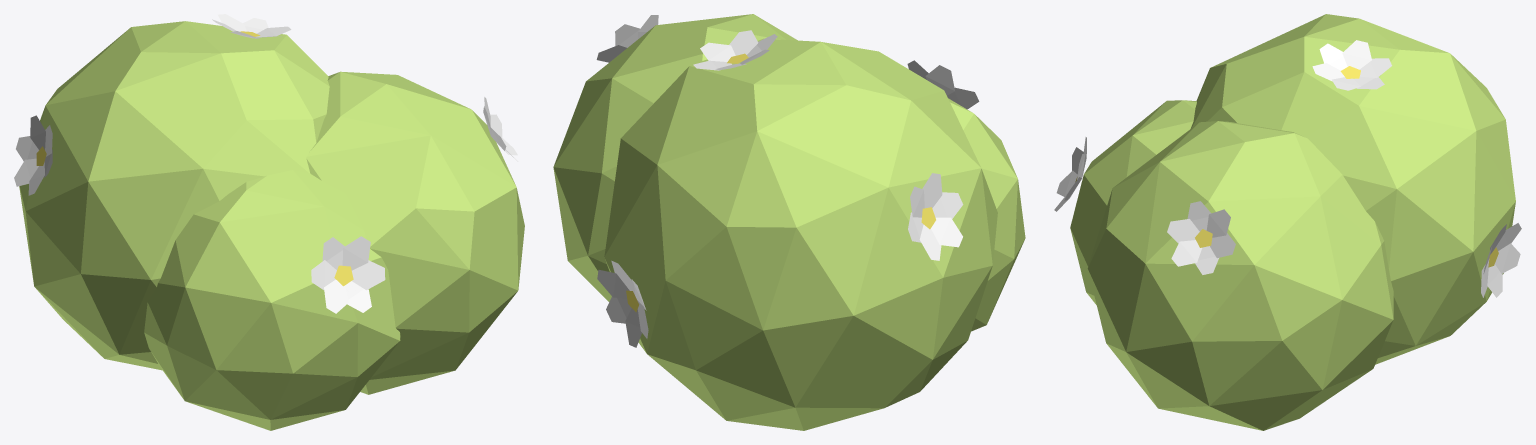
The model's file is FlowerBush_c_m_01.fbx.
The picture shows the model from 3 angles, left to right: view 1: azimuth 30°, elevation 25°; view 2: azimuth 150°, elevation 25°; view 3: azimuth 270°, elevation 25°; orthographic projection. The views are drawn at different scales.
Visible parts, largest first — view 1: FlowerBush_c_m_01_LOD0; view 2: FlowerBush_c_m_01_LOD0; view 3: FlowerBush_c_m_01_LOD0.
Part boxes in pixels (x1,y1,x2,y2): FlowerBush_c_m_01_LOD0: [14, 14, 524, 430]; FlowerBush_c_m_01_LOD0: [553, 14, 1025, 430]; FlowerBush_c_m_01_LOD0: [1054, 14, 1521, 430].
Size of what is drawn, in the model's own units: 163 by 127 by 164.
